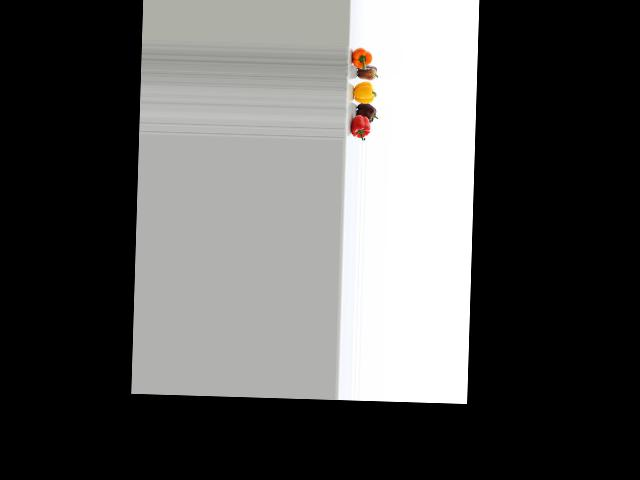bell_pepper: (349, 46, 379, 70)
